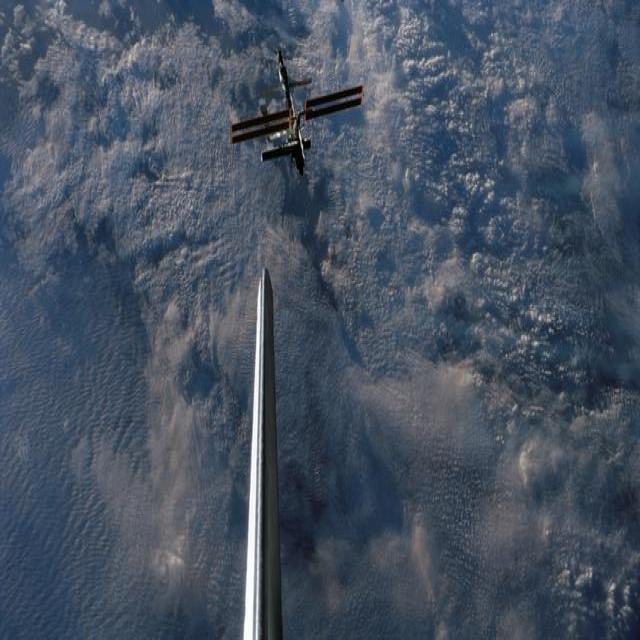medium_debris: (230, 41, 365, 208)
